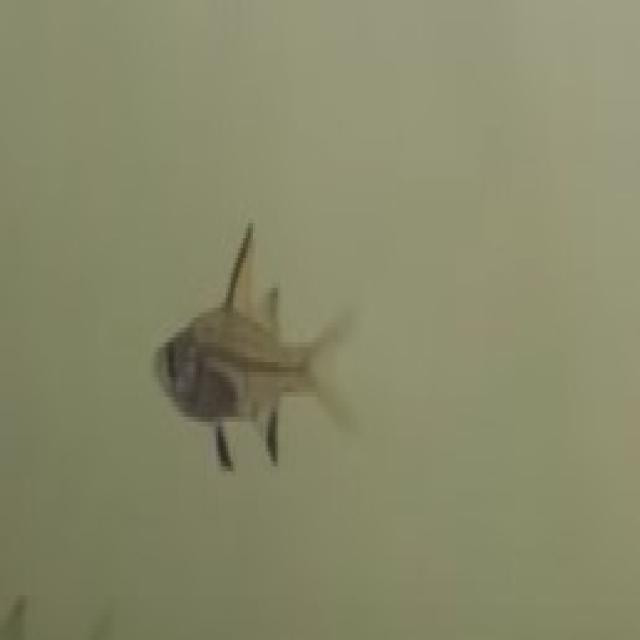Glass-Perchlet: (126, 224, 398, 548)
